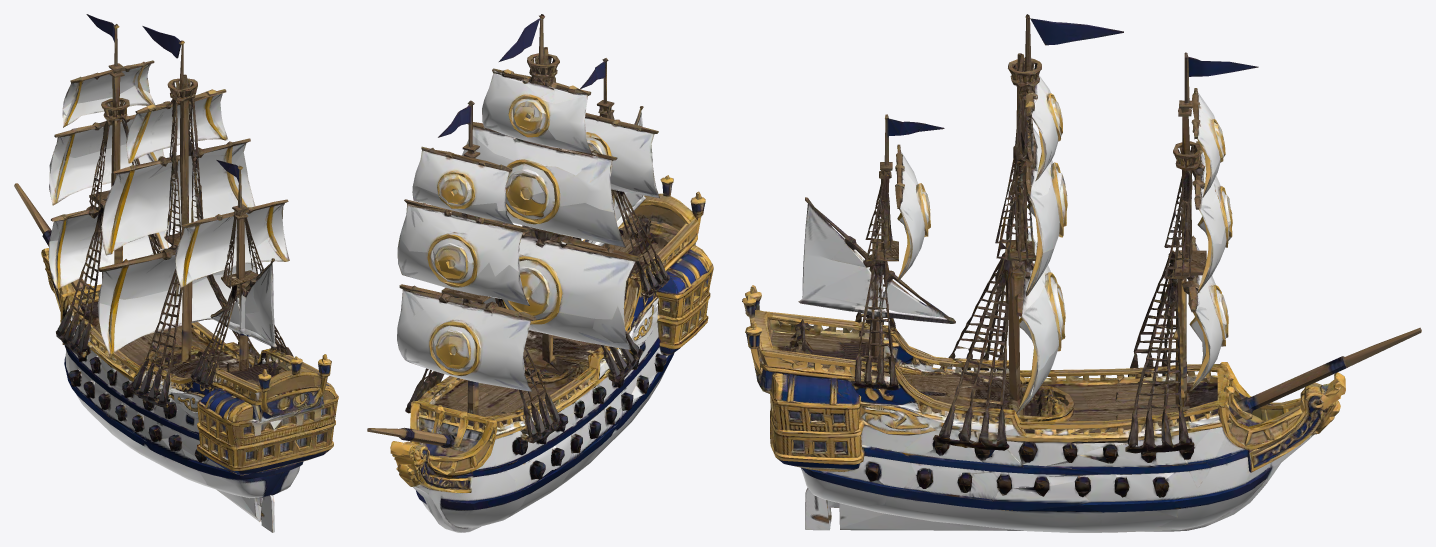
The model's file is man-o-war.glb.
3 renders of one model, left to right at view 1: azimuth 30°, elevation 25°; view 2: azimuth 150°, elevation 25°; view 3: azimuth 270°, elevation 25°, orthographic. The views are drawn at different scales.
Size of the model in its own units: 17.65 by 41.87 by 50.
Materials: 1 (1 with a texture image).
